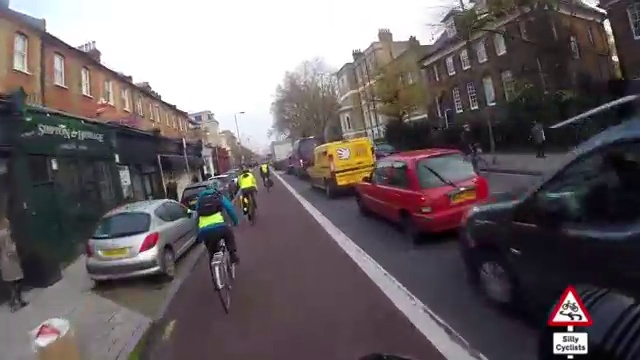cyclist_back: (191, 180, 244, 315), (236, 165, 260, 229), (254, 155, 274, 197)
